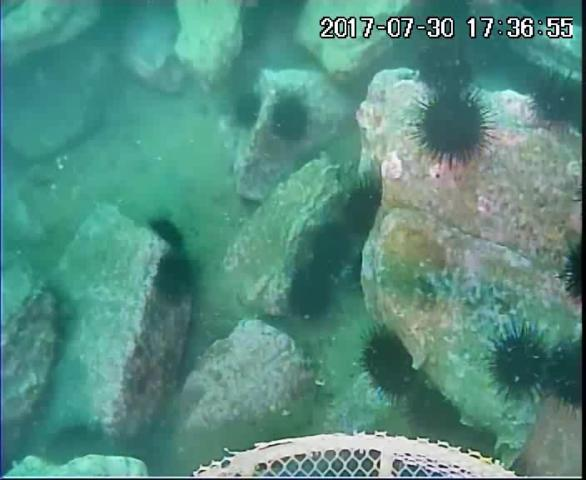echinus: (415, 85, 491, 164), (487, 325, 556, 407), (361, 326, 421, 402), (529, 68, 586, 131), (416, 43, 478, 96), (411, 386, 465, 437), (290, 264, 334, 323), (342, 181, 385, 239), (552, 340, 586, 413), (153, 255, 199, 307), (313, 222, 352, 277), (267, 97, 312, 143), (557, 237, 586, 306), (150, 216, 187, 253), (232, 91, 263, 131), (446, 345, 448, 346)
